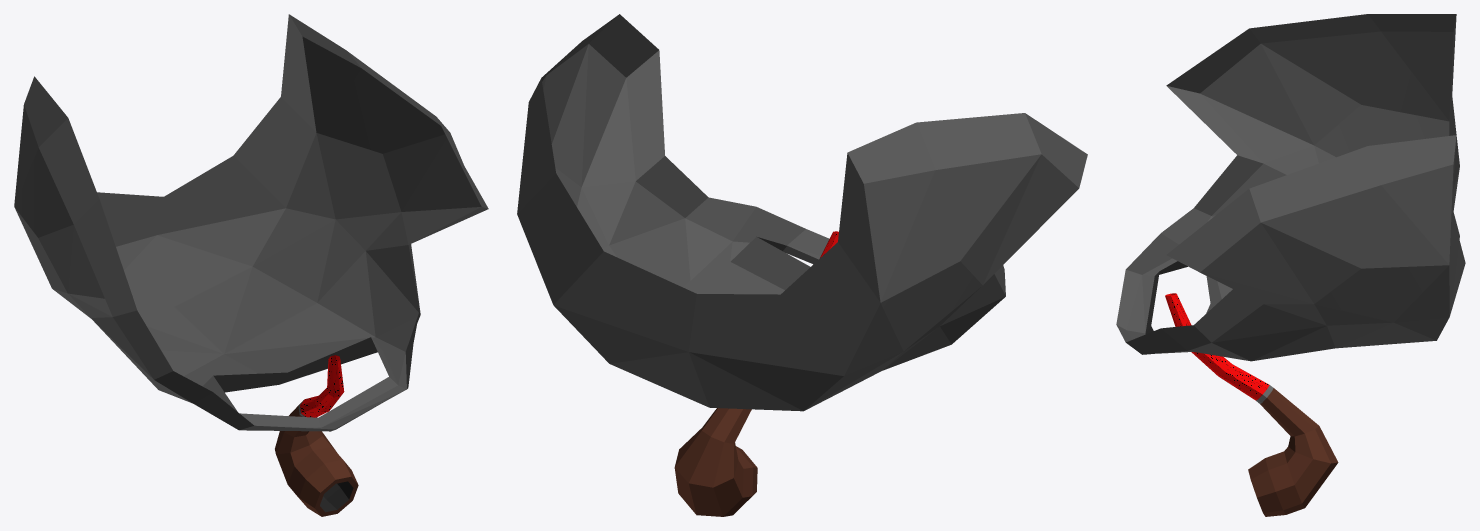
File: Beard.glb
3 renders of one model, left to right at view 1: azimuth 30°, elevation 25°; view 2: azimuth 150°, elevation 25°; view 3: azimuth 270°, elevation 25°, orthographic. The views are drawn at different scales.
Parts seen in each view (by area): view 1: Beard; view 2: Beard; view 3: Beard.
Boxes of the visible parts, bbox=[...] form: Beard: bbox=[14, 14, 488, 516]; Beard: bbox=[517, 14, 1087, 516]; Beard: bbox=[1116, 14, 1465, 516].
Size of the model in its own units: 0.1771 by 0.1869 by 0.146.
Materials: 1 (1 with a texture image).
